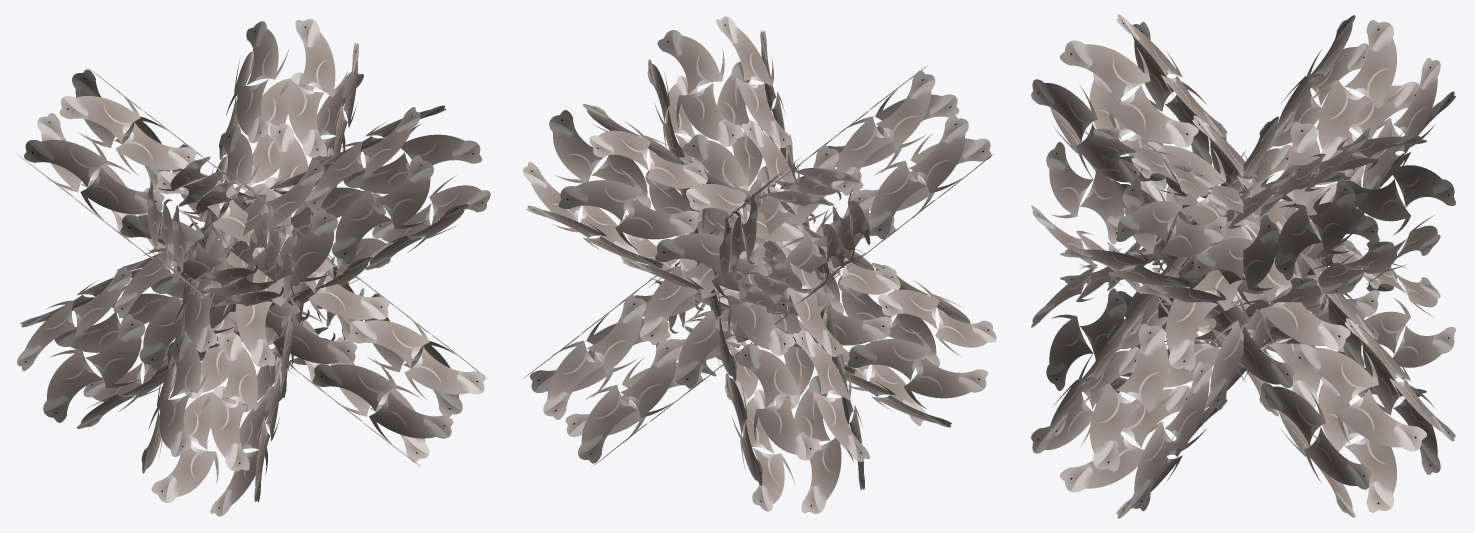
File: Hexahemioctacron29.gltf
3 renders of one model, left to right at view 1: azimuth 30°, elevation 25°; view 2: azimuth 150°, elevation 25°; view 3: azimuth 270°, elevation 25°, orthographic. The views are drawn at different scales.
Parts seen in each view (by area): view 1: Hexahemioctacron1; view 2: Hexahemioctacron1; view 3: Hexahemioctacron1.
Boxes of the visible parts, x1=… form: Hexahemioctacron1: x1=16, y1=19, x2=490, y2=516; Hexahemioctacron1: x1=522, y1=16, x2=996, y2=513; Hexahemioctacron1: x1=1031, y1=14, x2=1455, y2=518.
Bounding box in the file's own units: 6.25 × 6.25 × 6.25.
1 material, 1 textured.
